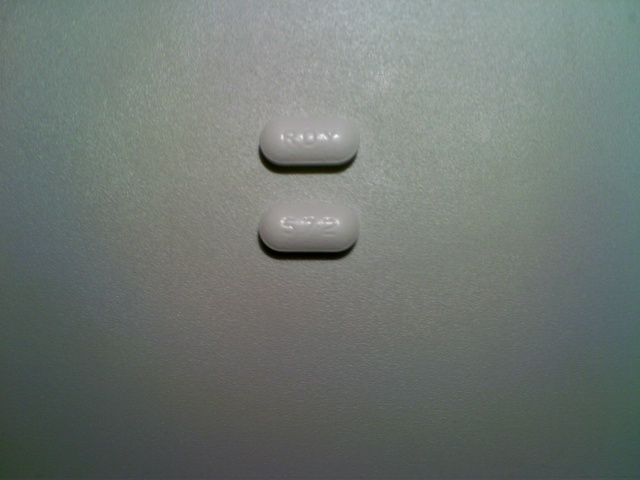2: (322, 218, 339, 239)
5: (281, 216, 298, 236)
7: (299, 215, 317, 236)
D: (300, 128, 318, 149)
R: (282, 128, 299, 149)
Y: (319, 128, 339, 149)
